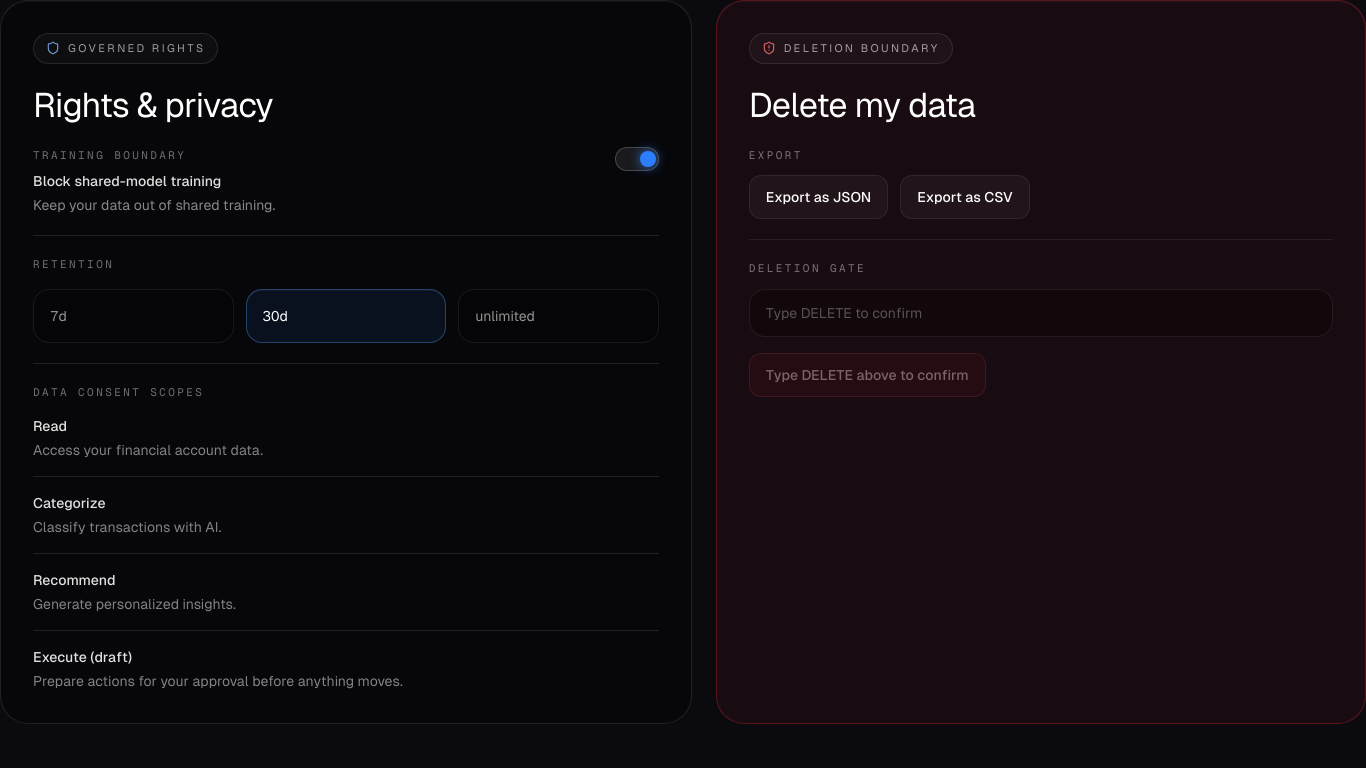
Test: Settings rights exercise flow (SET04) › delete button requires DELETE confirmation
The image size is (1366, 768).
Expected: the button "Type DELETE above to confirm" is disabled, [749,353,986,397]
// Type incorrect text
Type "NOPE" into the field with placeholder "Type DELETE to confirm" at (1041, 313), box [749,289,1333,337]
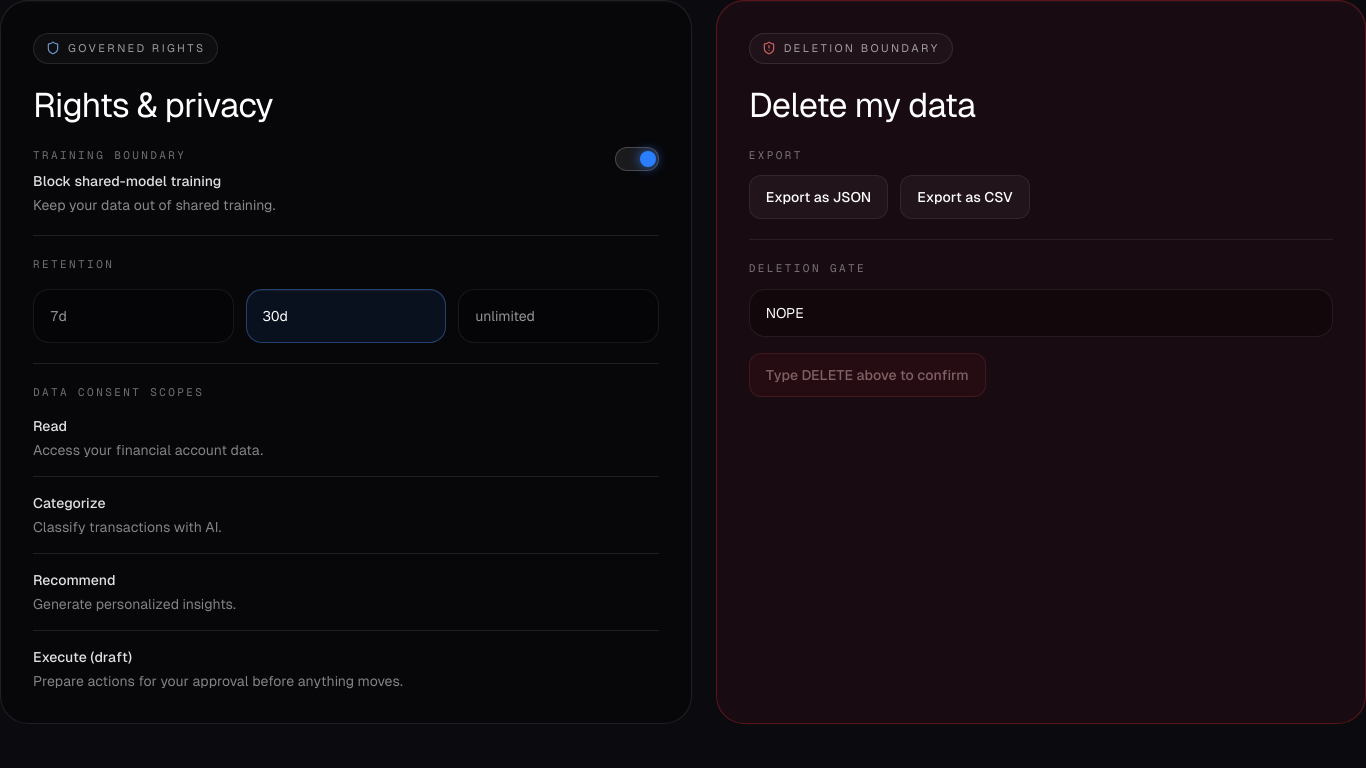
Expected: the button "Type DELETE above to confirm" is disabled, [749,353,986,397]
// Type correct text
Replace the text in the field with placeholder "Type DELETE to confirm" with "DELETE" at (1041, 313), box [749,289,1333,337]
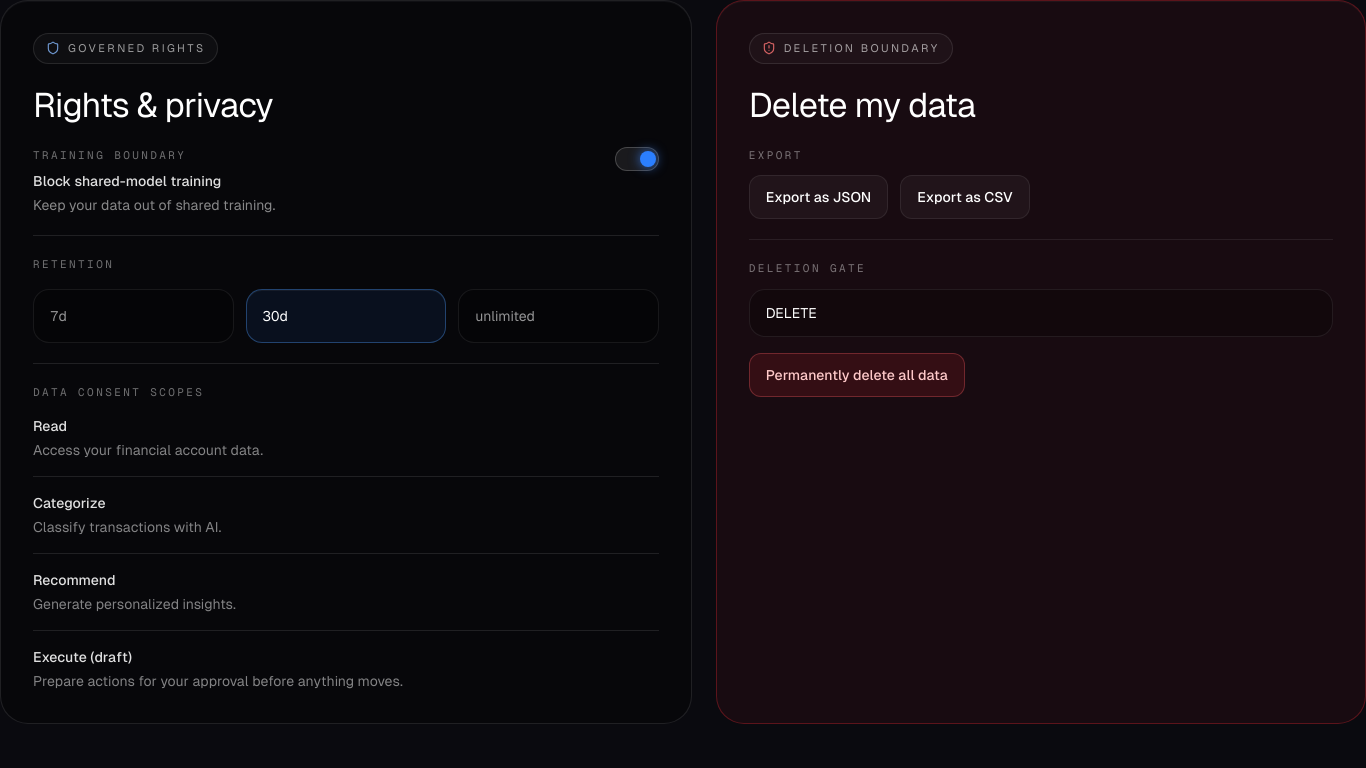
Expected: the button "Permanently delete all data" is enabled, [749,353,965,397]
